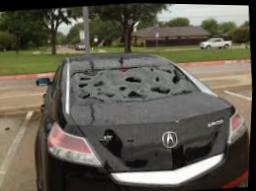Windshield: (71, 63, 199, 106)
